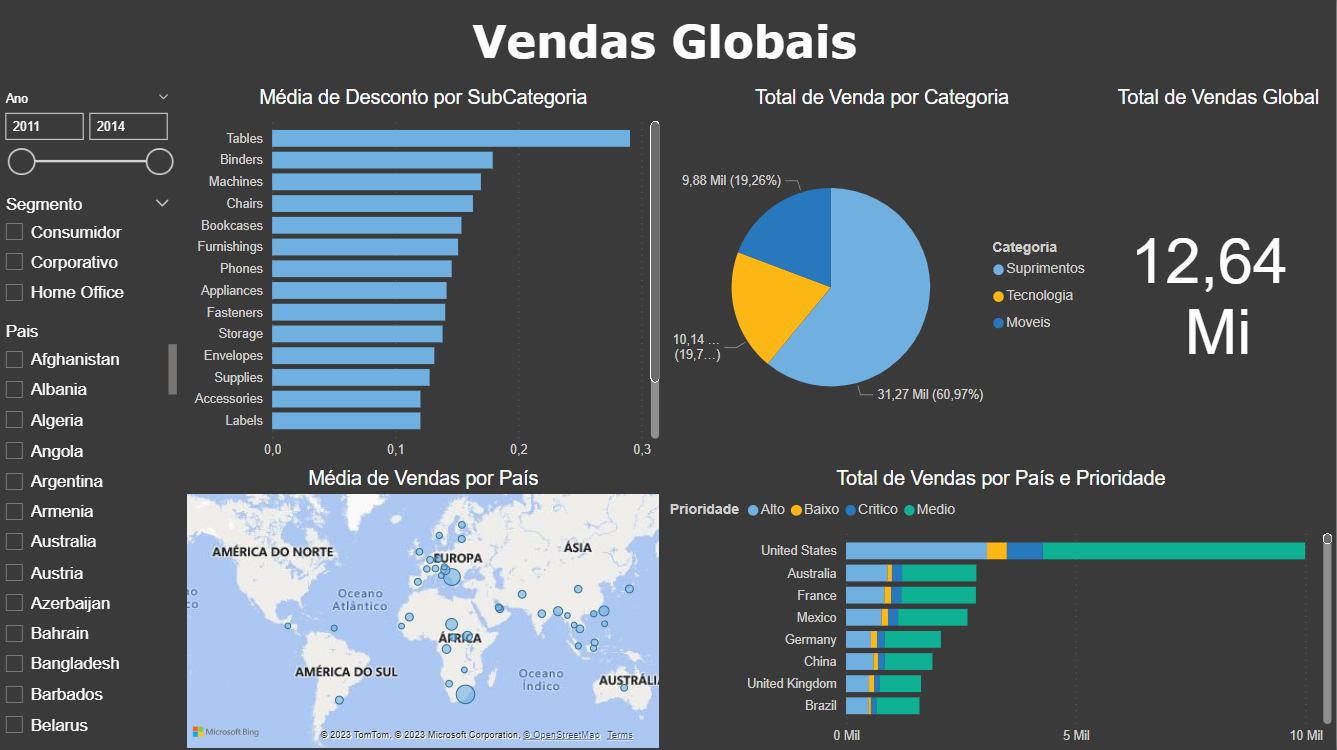

This screenshot's page, from the dashboard's own definition file:
{"tool":"powerbi","page":{"name":"Dashboard_Vendas_Globais","canvas":[1280,720],"ordinal":0},"visuals":[{"type":"card","title":"Total de Vendas Global","fields":{"Values":["Sum(dataset.Total_Vendas)"]},"box":[1054.4,85.7,226.1,363],"z":0},{"type":"pieChart","title":"Total de Venda por Categoria","fields":{"Category":["dataset.Categoria"],"Y":["CountNonNull(dataset.ID_Pedido)"]},"box":[640.3,85.7,414.1,363],"z":1000},{"type":"barChart","title":"Total de Vendas por País e Prioridade","fields":{"Category":["dataset.Pais"],"Y":["CountNonNull(dataset.ID_Pedido)"],"Series":["dataset.Prioridade"]},"box":[640.3,448.7,640.3,271.3],"z":2000},{"type":"clusteredBarChart","fields":{"Category":["dataset.SubCategoria"],"Y":["Avg(dataset.Desconto)"]},"box":[180.9,85.7,459.4,363],"z":3000},{"type":"map","title":"Média de Vendas por País","fields":{"Category":["dataset.Pais"],"Size":["Avg(dataset.Total_Vendas)"]},"box":[180.9,448.7,459.4,271.3],"z":4000},{"type":"slicer","fields":{"Values":["dataset.Pais"]},"box":[0,305.9,180.9,405.8],"z":5000},{"type":"slicer","fields":{"Values":["dataset.Segmento"]},"box":[0,184.5,180.9,121.4],"z":6000},{"type":"slicer","fields":{"Values":["dataset.Data_Pedido.Variation.Hierarquia de datas.Ano"]},"box":[0,85.7,180.9,98.8],"z":7000},{"type":"textbox","box":[0,10.7,1280.5,75],"z":9000}]}

Visuals, with their boxes in screenshot pixels (x1, y1, x2, y2), scaled from the page's 1280x720 canvas onto the 1337x750 screenshot:
"Total de Vendas Global" card: <bbox>1101, 89, 1336, 467</bbox>
"Total de Venda por Categoria" pieChart: <bbox>669, 89, 1101, 467</bbox>
"Total de Vendas por País e Prioridade" barChart: <bbox>669, 467, 1336, 749</bbox>
clusteredBarChart - dataset.SubCategoria x Avg(dataset.Desconto): <bbox>189, 89, 669, 467</bbox>
"Média de Vendas por País" map: <bbox>189, 467, 669, 749</bbox>
slicer - dataset.Pais: <bbox>0, 319, 189, 741</bbox>
slicer - dataset.Segmento: <bbox>0, 192, 189, 319</bbox>
slicer - dataset.Data_Pedido.Variation.Hierarquia de datas.Ano: <bbox>0, 89, 189, 192</bbox>
textbox: <bbox>0, 11, 1336, 89</bbox>
